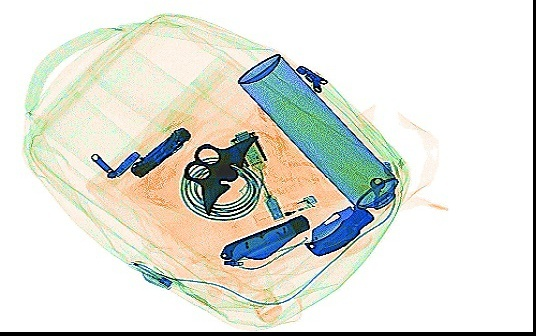knife: (218, 213, 309, 264), (303, 203, 373, 255), (129, 125, 189, 177)
lighter: (250, 191, 316, 228)
pressure: (236, 51, 398, 209)
